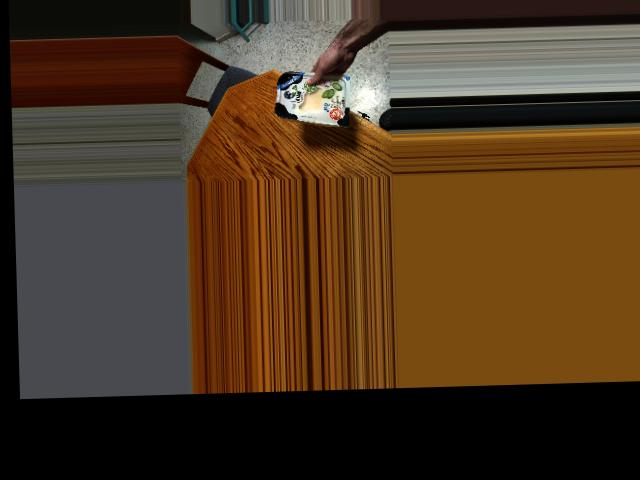cheese: (276, 60, 351, 129)
